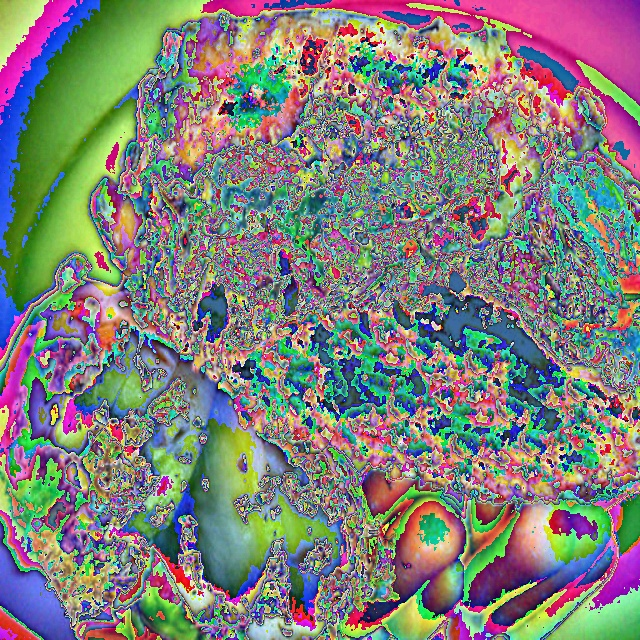background: (0, 7, 640, 639)
